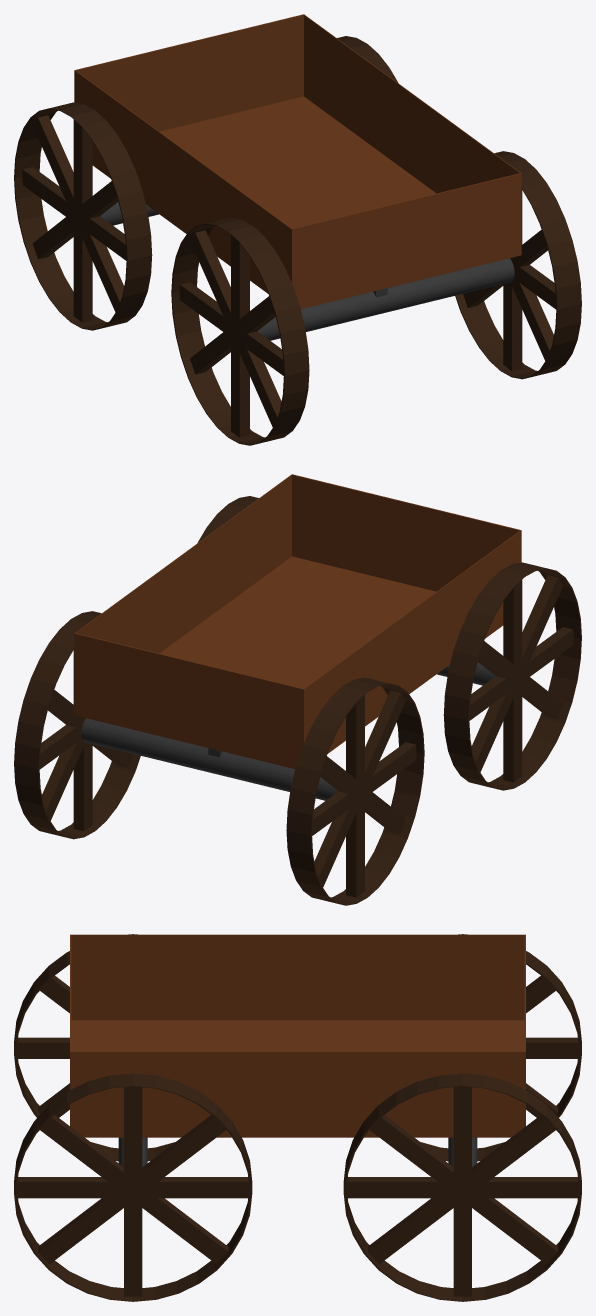
File: Wagon1WIP.fbx
3 renders of one model, top to bottom at view 1: azimuth 30°, elevation 25°; view 2: azimuth 150°, elevation 25°; view 3: azimuth 270°, elevation 25°, orthographic. The views are drawn at different scales.
Parts seen in each view (by area): view 1: body; view 2: body; view 3: body.
Boxes of the visible parts, x1,y1,x2,y2 form: body: [14, 14, 581, 445]; body: [14, 474, 581, 905]; body: [14, 934, 581, 1301].
Bounding box in the file's own units: 254 × 181 × 401.
